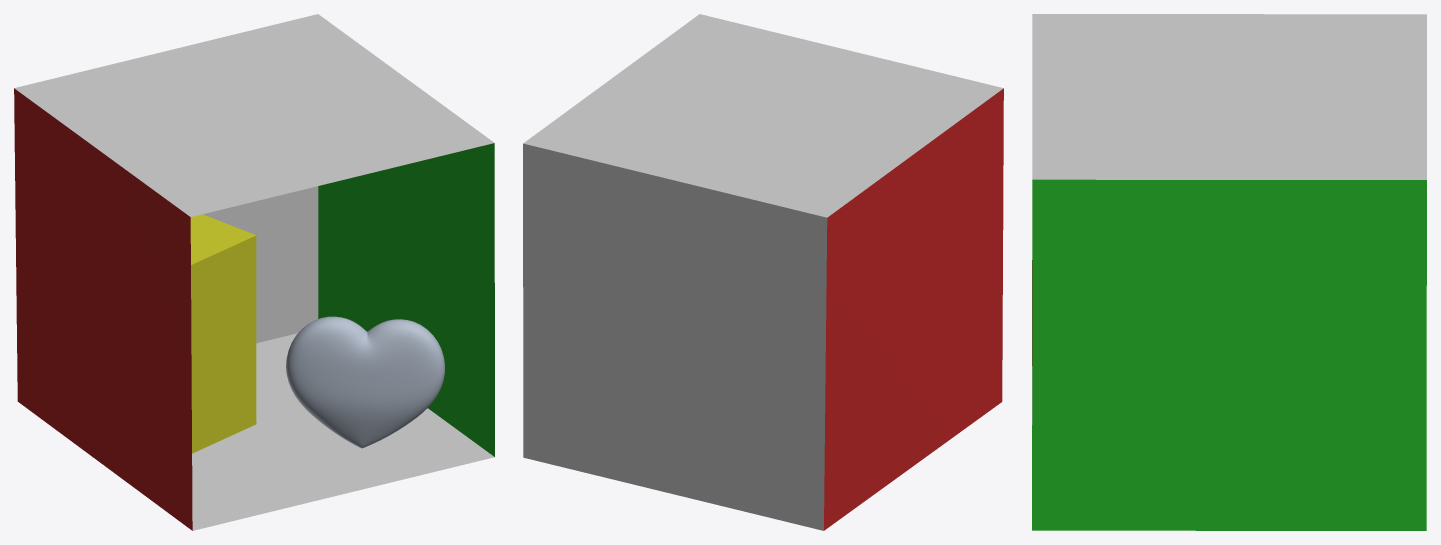
The model's file is cornell-box-heart.obj.
3 renders of one model, left to right at view 1: azimuth 30°, elevation 25°; view 2: azimuth 150°, elevation 25°; view 3: azimuth 270°, elevation 25°, orthographic. The views are drawn at different scales.
Parts seen in each view (by area): view 1: left_wall, ceiling, right_wall, floor, heart, tall_box, back_wall; view 2: back_wall, left_wall, ceiling; view 3: right_wall, ceiling.
Boxes of the visible parts, x1=… form: left_wall: x1=14, y1=88, x2=192, y2=530; ceiling: x1=14, y1=14, x2=494, y2=216; right_wall: x1=318, y1=143, x2=494, y2=456; floor: x1=192, y1=333, x2=494, y2=530; heart: x1=286, y1=316, x2=444, y2=448; tall_box: x1=190, y1=214, x2=256, y2=453; back_wall: x1=203, y1=186, x2=318, y2=343; back_wall: x1=523, y1=143, x2=827, y2=530; left_wall: x1=824, y1=88, x2=1003, y2=530; ceiling: x1=523, y1=14, x2=1003, y2=217; right_wall: x1=1032, y1=179, x2=1426, y2=530; ceiling: x1=1032, y1=14, x2=1426, y2=179.
Size of the model in its own units: 5.56 by 5.49 by 5.6.
